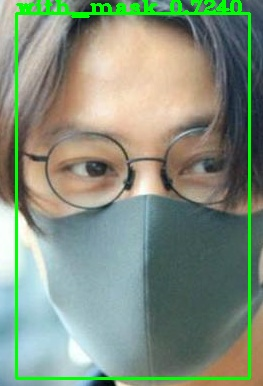with_mask: (3, 3, 263, 368)
